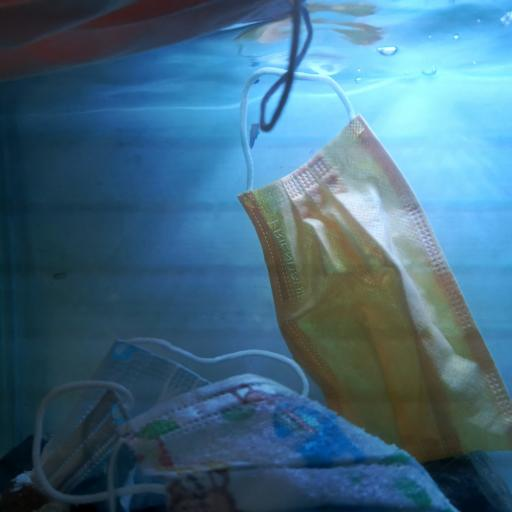mask: (236, 64, 512, 464), (15, 334, 311, 512), (112, 371, 460, 512), (1, 2, 315, 134)
